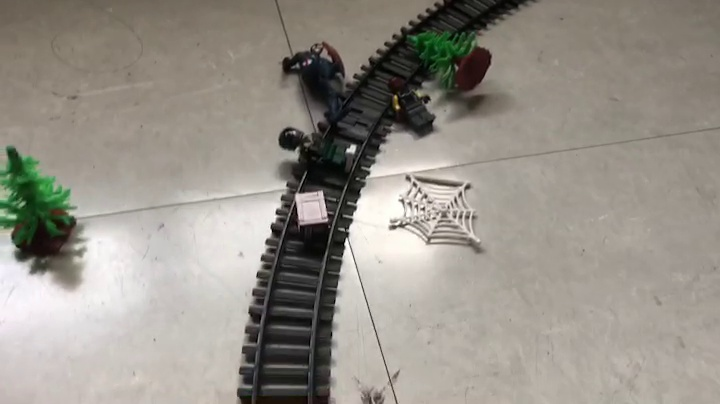box: (292, 189, 333, 250)
people: (283, 42, 351, 129), (276, 127, 355, 178), (386, 77, 439, 138)
tree: (1, 145, 80, 261), (404, 29, 492, 95)
web: (388, 171, 485, 251)
